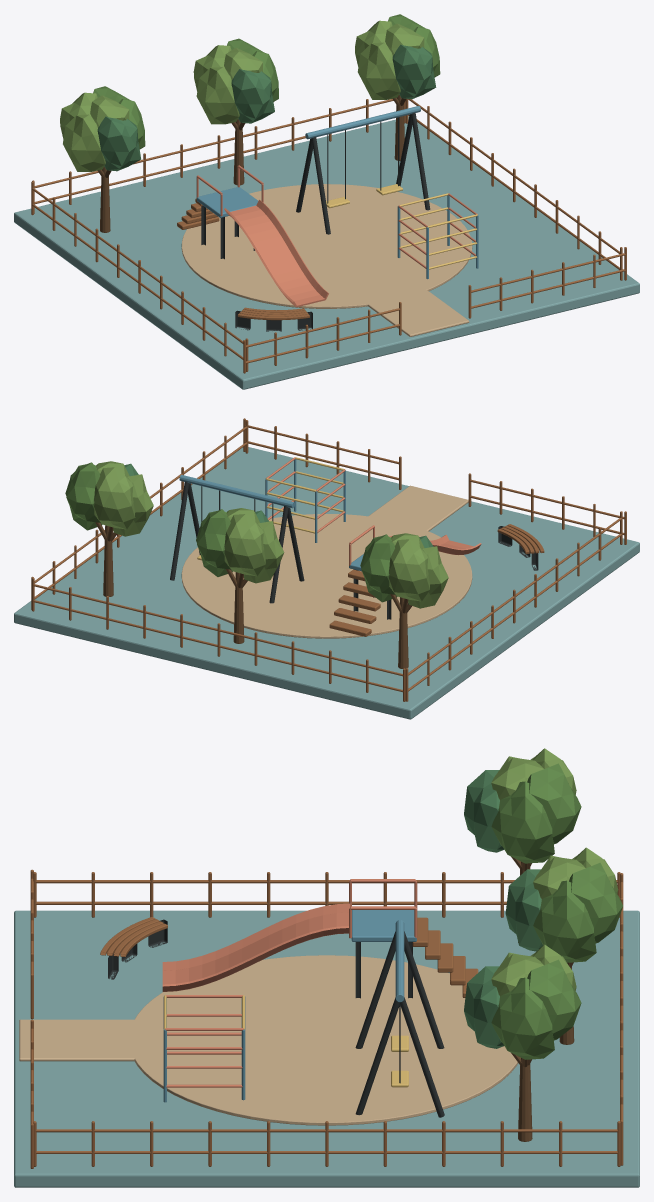
Rendered from POCKET_PLAY_PARK.fbx.
The picture shows the model from 3 angles, top to bottom: view 1: azimuth 30°, elevation 25°; view 2: azimuth 150°, elevation 25°; view 3: azimuth 270°, elevation 25°; orthographic projection. The views are drawn at different scales.
Parts seen in each view (by area): view 1: UNITY_ASSET_POCKET_PLAY_PARK; view 2: UNITY_ASSET_POCKET_PLAY_PARK; view 3: UNITY_ASSET_POCKET_PLAY_PARK.
Boxes of the visible parts, x1,y1,x2,y2 form: UNITY_ASSET_POCKET_PLAY_PARK: (14,14,639,389); UNITY_ASSET_POCKET_PLAY_PARK: (14,418,639,719); UNITY_ASSET_POCKET_PLAY_PARK: (14,748,639,1187).
Size of the model in its own units: 12 by 4.23 by 12.
